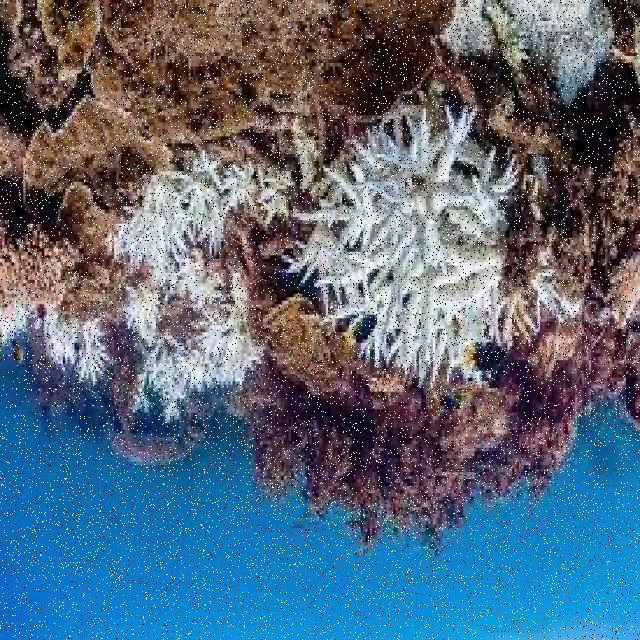Bleached: (283, 96, 548, 391), (126, 155, 283, 289), (139, 299, 257, 426), (39, 316, 115, 395)
